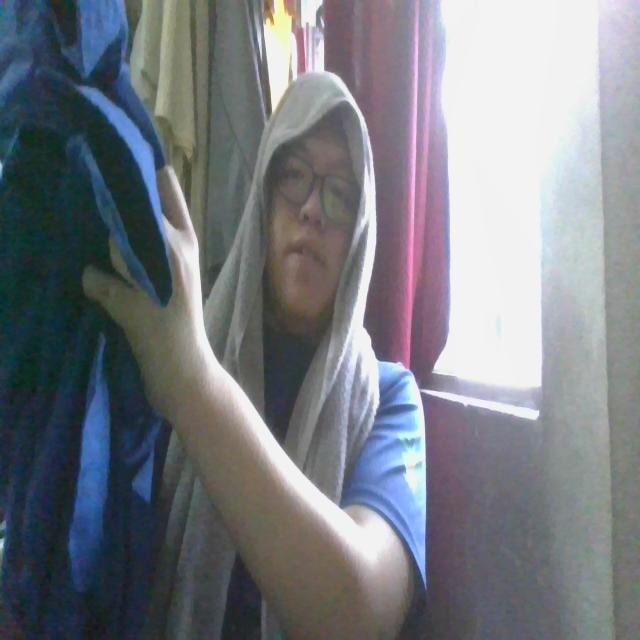person_without_labcoat: (0, 0, 424, 639)
